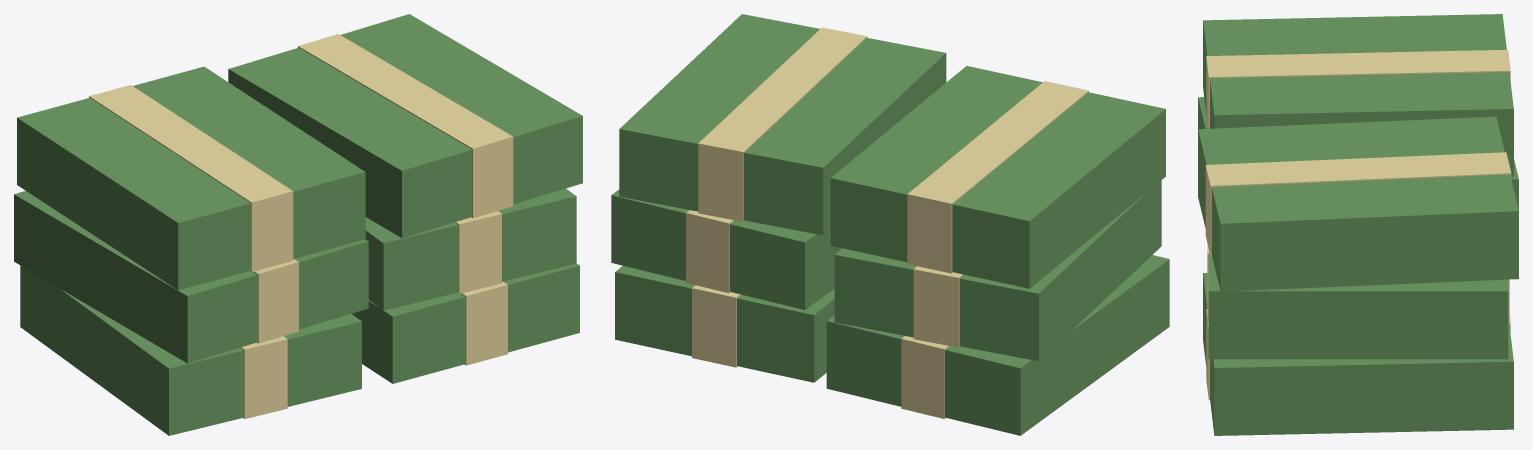
File: fake_bills_stack.glb
The picture shows the model from 3 angles, left to right: view 1: azimuth 30°, elevation 25°; view 2: azimuth 150°, elevation 25°; view 3: azimuth 270°, elevation 25°; orthographic projection.
Parts seen in each view (by area): view 1: bundles_bill_green, bands_bill_band; view 2: bundles_bill_green, bands_bill_band; view 3: bundles_bill_green, bands_bill_band.
Part boxes in pixels (x1,y1,x2,y2): bundles_bill_green: (14,14,582,435); bands_bill_band: (89,34,513,418); bundles_bill_green: (611,14,1169,435); bands_bill_band: (686,27,1088,418); bundles_bill_green: (1198,14,1518,435); bands_bill_band: (1205,49,1511,400).
Bounding box in the file's own units: 0.4031 × 0.192 × 0.2568.
